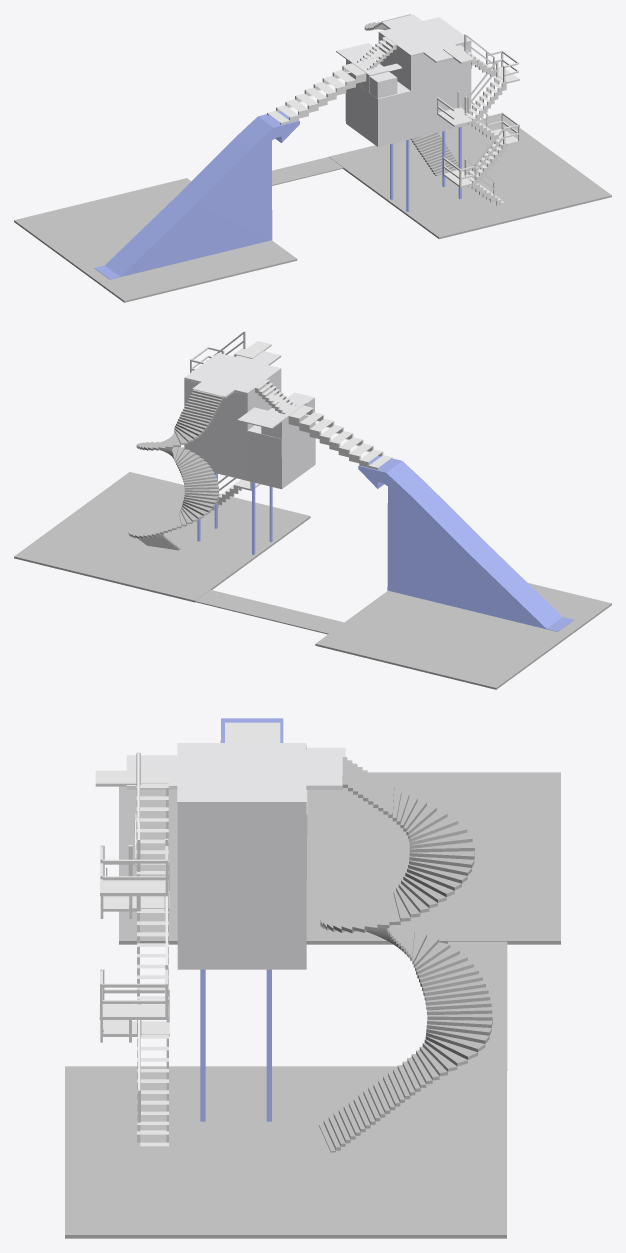
Rendered from World.fbx.
The picture shows the model from 3 angles, top to bottom: view 1: azimuth 30°, elevation 25°; view 2: azimuth 150°, elevation 25°; view 3: azimuth 270°, elevation 25°; orthographic projection. The views are drawn at different scales.
Parts seen in each view (by area): view 1: PlatformL, Ramp, PlatformR, Factory, FireStairs, StairsLong, FactoryRoof, SpiralStairs, Bridge, Poles, StairsFactory; view 2: PlatformL, PlatformR, Ramp, Factory, SpiralStairs, Bridge, StairsLong, FactoryRoof, FireStairs, Poles, StairsFactory; view 3: PlatformL, PlatformR, Factory, SpiralStairs, FireStairs, FactoryRoof, Bridge, Poles, StairsLong.
Boxes of the visible parts, box(x1,y1,x2,y2) form: PlatformL: box(329, 115, 611, 239); Ramp: box(94, 111, 299, 279); PlatformR: box(14, 178, 297, 302); Factory: box(336, 14, 471, 146); FireStairs: box(437, 34, 519, 205); StairsLong: box(267, 63, 366, 124); FactoryRoof: box(379, 17, 470, 55); SpiralStairs: box(364, 14, 458, 175); Bridge: box(272, 157, 343, 185); Poles: box(390, 127, 461, 211); StairsFactory: box(357, 37, 396, 69); PlatformL: box(14, 472, 310, 602); PlatformR: box(315, 583, 611, 689); Ramp: box(358, 456, 573, 631); Factory: box(184, 347, 315, 489); SpiralStairs: box(128, 389, 223, 550); Bridge: box(192, 589, 343, 634); StairsLong: box(288, 405, 392, 469); FactoryRoof: box(184, 353, 280, 392); FireStairs: box(190, 331, 271, 516); Poles: box(197, 473, 272, 554); StairsFactory: box(255, 379, 296, 414); PlatformL: box(65, 1066, 506, 1238); PlatformR: box(119, 772, 560, 944); Factory: box(126, 745, 345, 969); SpiralStairs: box(319, 757, 492, 1152); FireStairs: box(95, 752, 169, 1146); FactoryRoof: box(177, 743, 306, 801); Bridge: box(448, 941, 507, 1070); Poles: box(200, 969, 271, 1121); StairsLong: box(225, 722, 280, 742).
Size of the model in its own units: 3835 by 1401 by 1738.
